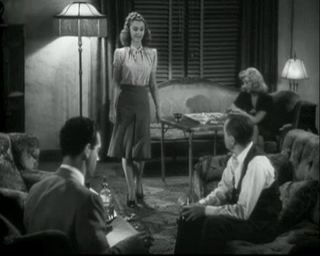face: (130, 21, 145, 42), (241, 76, 253, 92)
ls: (1, 1, 320, 256)
person: (23, 115, 154, 256), (174, 114, 282, 256), (107, 11, 161, 205), (227, 67, 275, 153)
